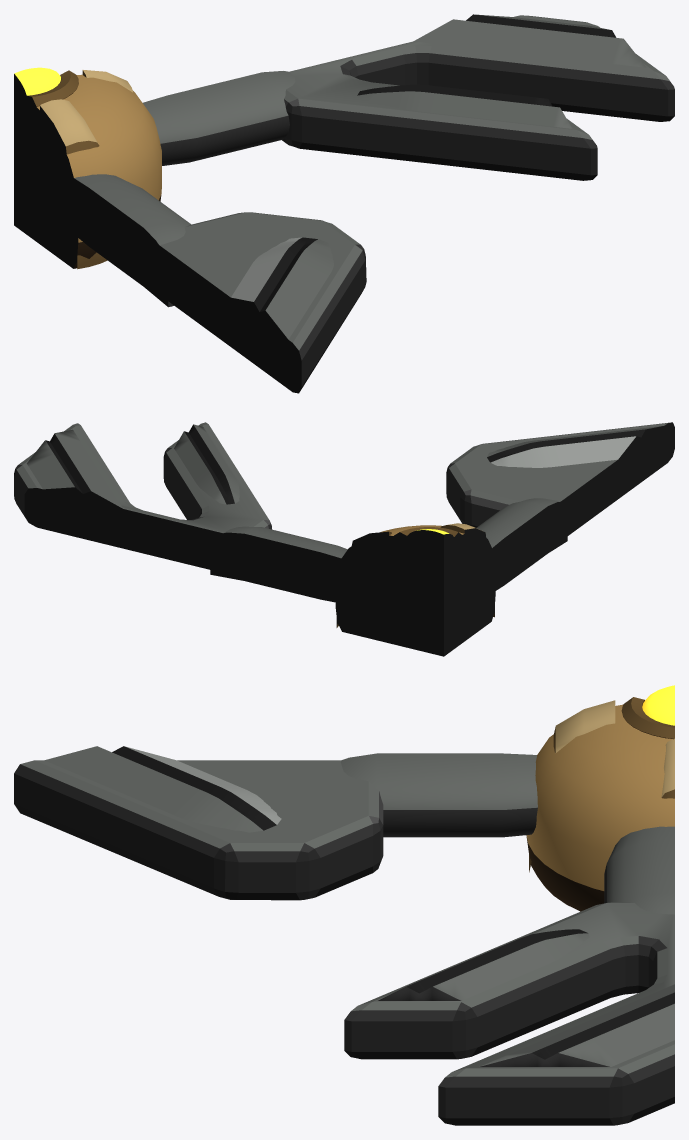
File: spin_claw_49.glb
3 views of the same model, one above another, from view 1: azimuth 30°, elevation 25°; view 2: azimuth 150°, elevation 25°; view 3: azimuth 270°, elevation 25° (orthographic). The views are drawn at different scales.
Visible parts, largest first — view 1: spin_claw_49_arm1_plate, spin_claw_49_arm2_plate, spin_claw_49_hub_dome, spin_claw_49_arm1_rod, spin_claw_49_arm2_rod, spin_claw_49_arm2_ridge0, spin_claw_49_arm1_ridge0, spin_claw_49_arm1_ridge1, spin_claw_49_hub_rib2, spin_claw_49_hub_lens, spin_claw_49_hub_bezel; view 2: spin_claw_49_arm1_plate, spin_claw_49_hub_dome, spin_claw_49_arm2_plate, spin_claw_49_arm1_rod, spin_claw_49_arm2_rod, spin_claw_49_arm2_ridge0, spin_claw_49_arm1_ridge0, spin_claw_49_arm1_ridge1, spin_claw_49_hub_lens, spin_claw_49_hub_bezel, spin_claw_49_hub_rib2; view 3: spin_claw_49_arm1_plate, spin_claw_49_arm2_plate, spin_claw_49_hub_dome, spin_claw_49_arm2_rod, spin_claw_49_arm2_ridge0, spin_claw_49_arm1_ridge0, spin_claw_49_arm1_ridge1, spin_claw_49_arm1_rod, spin_claw_49_hub_rib2, spin_claw_49_hub_bezel, spin_claw_49_hub_lens, spin_claw_49_hub_rib1.
Part boxes in pixels (left/top/right/bottom): spin_claw_49_arm1_plate: left=282, top=15, right=674, bottom=180; spin_claw_49_arm2_plate: left=141, top=212, right=366, bottom=393; spin_claw_49_hub_dome: left=14, top=74, right=161, bottom=268; spin_claw_49_arm1_rod: left=143, top=71, right=295, bottom=165; spin_claw_49_arm2_rod: left=53, top=166, right=191, bottom=307; spin_claw_49_arm2_ridge0: left=225, top=237, right=333, bottom=352; spin_claw_49_arm1_ridge0: left=413, top=14, right=646, bottom=67; spin_claw_49_arm1_ridge1: left=357, top=84, right=572, bottom=128; spin_claw_49_hub_rib2: left=40, top=99, right=107, bottom=269; spin_claw_49_hub_lens: left=14, top=67, right=60, bottom=111; spin_claw_49_hub_bezel: left=14, top=70, right=78, bottom=115; spin_claw_49_arm1_plate: left=14, top=422, right=271, bottom=576; spin_claw_49_hub_dome: left=335, top=525, right=495, bottom=656; spin_claw_49_arm2_plate: left=446, top=422, right=674, bottom=548; spin_claw_49_arm1_rod: left=210, top=526, right=369, bottom=608; spin_claw_49_arm2_rod: left=475, top=498, right=567, bottom=602; spin_claw_49_arm2_ridge0: left=487, top=425, right=668, bottom=468; spin_claw_49_arm1_ridge0: left=27, top=429, right=129, bottom=517; spin_claw_49_arm1_ridge1: left=174, top=424, right=239, bottom=504; spin_claw_49_hub_lens: left=405, top=529, right=454, bottom=556; spin_claw_49_hub_bezel: left=394, top=527, right=461, bottom=555; spin_claw_49_hub_rib2: left=440, top=523, right=494, bottom=617; spin_claw_49_arm1_plate: left=344, top=902, right=674, bottom=1125; spin_claw_49_arm2_plate: left=14, top=760, right=383, bottom=900; spin_claw_49_hub_dome: left=526, top=704, right=674, bottom=911; spin_claw_49_arm2_rod: left=340, top=753, right=537, bottom=837; spin_claw_49_arm2_ridge0: left=44, top=746, right=281, bottom=832; spin_claw_49_arm1_ridge0: left=479, top=984, right=674, bottom=1066; spin_claw_49_arm1_ridge1: left=378, top=929, right=589, bottom=1000; spin_claw_49_arm1_rod: left=604, top=826, right=674, bottom=914; spin_claw_49_hub_rib2: left=529, top=700, right=615, bottom=872; spin_claw_49_hub_bezel: left=621, top=697, right=674, bottom=739; spin_claw_49_hub_lens: left=642, top=685, right=674, bottom=725; spin_claw_49_hub_rib1: left=661, top=738, right=674, bottom=798.
Size of the model in its own units: 23.7 by 6.19 by 21.08.
